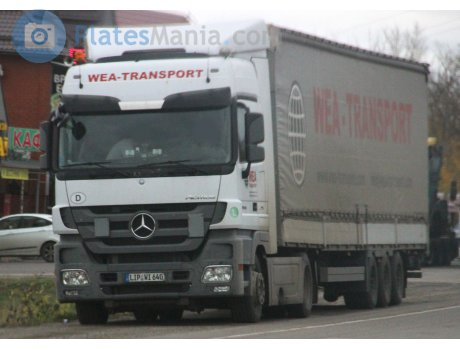License Plates: (129, 272, 162, 279)
